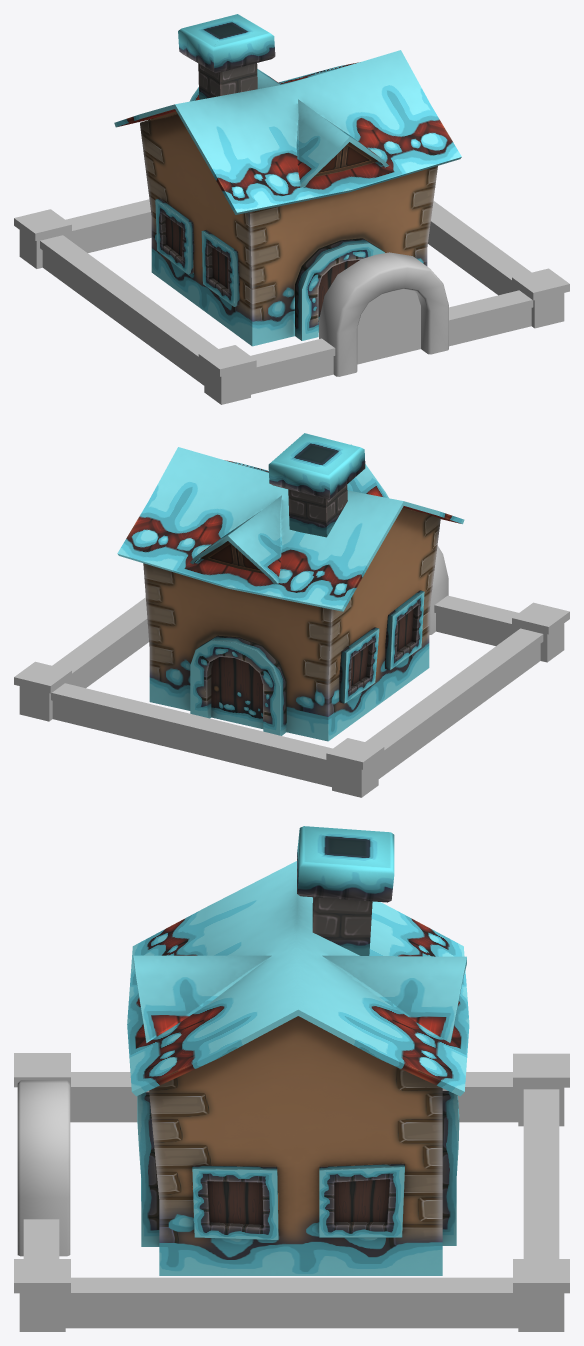
Rendered from House2.FBX.
3 renders of one model, top to bottom at view 1: azimuth 30°, elevation 25°; view 2: azimuth 150°, elevation 25°; view 3: azimuth 270°, elevation 25°, orthographic. The views are drawn at different scales.
Parts seen in each view (by area): view 1: House2, Object320; view 2: House2, Object320; view 3: House2, Object320.
Part boxes in pixels (x1,y1,x2,y2): House2: (114,14,461,346); Object320: (14,199,569,404); House2: (117,433,464,741); Object320: (14,545,569,797); House2: (127,826,469,1275); Object320: (14,1053,569,1331).
Bounding box in the file's own units: 268 × 188 × 274.
